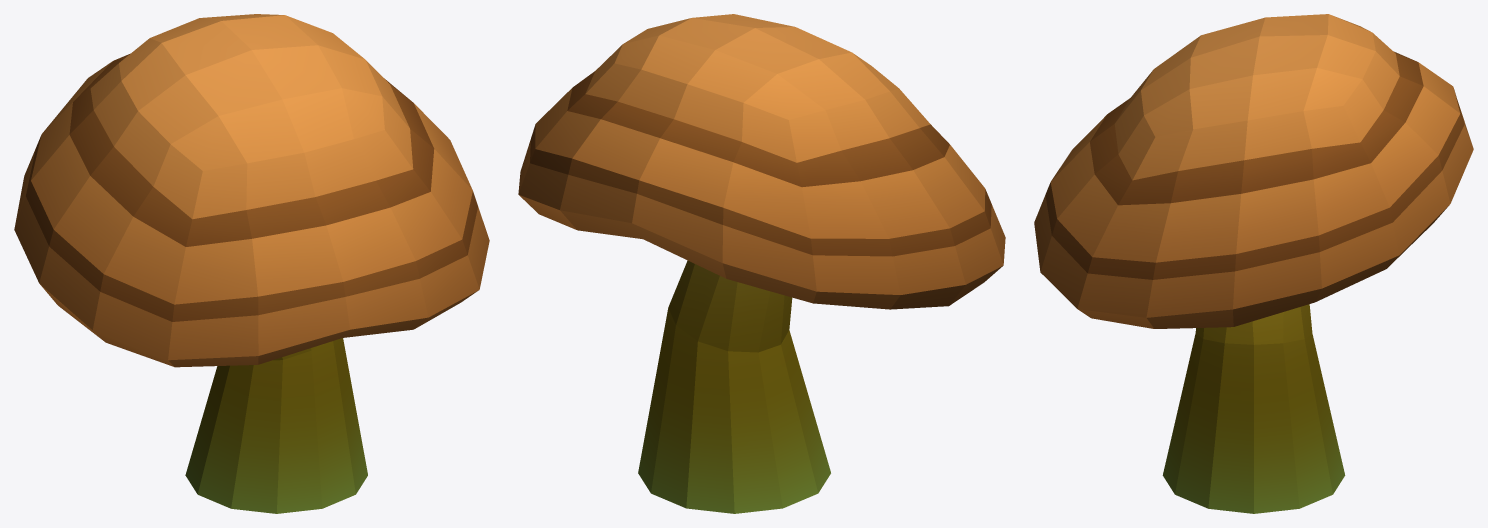
Rendered from Mushroom1.fbx.
3 renders of one model, left to right at view 1: azimuth 30°, elevation 25°; view 2: azimuth 150°, elevation 25°; view 3: azimuth 270°, elevation 25°, orthographic. The views are drawn at different scales.
Parts seen in each view (by area): view 1: Mushroom1; view 2: Mushroom1; view 3: Mushroom1.
Part boxes in pixels (bbox=[...]): Mushroom1: bbox=[14, 14, 489, 513]; Mushroom1: bbox=[518, 14, 1005, 513]; Mushroom1: bbox=[1034, 14, 1473, 513].
Size of the model in its own units: 21.83 by 22.2 by 20.51.
